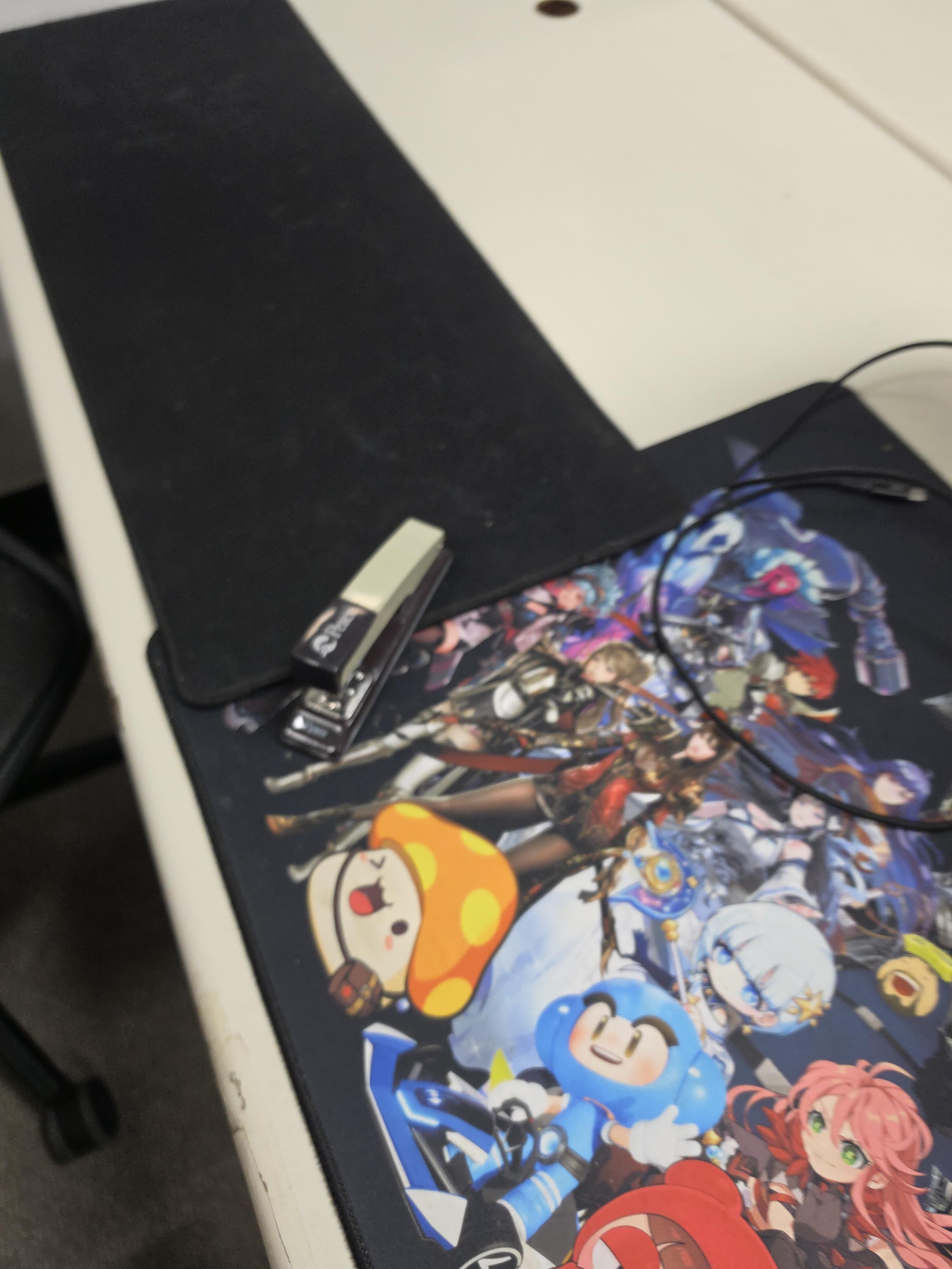stapler: (278, 517, 454, 761)
